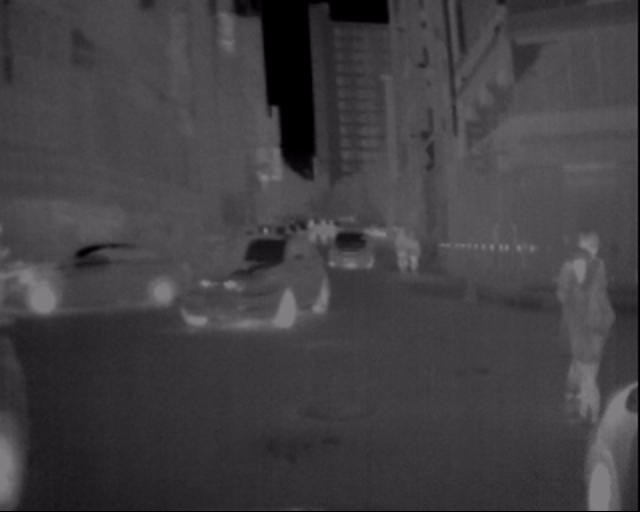person: (549, 198, 626, 451), (400, 211, 429, 287), (302, 206, 344, 252), (389, 215, 412, 276)
